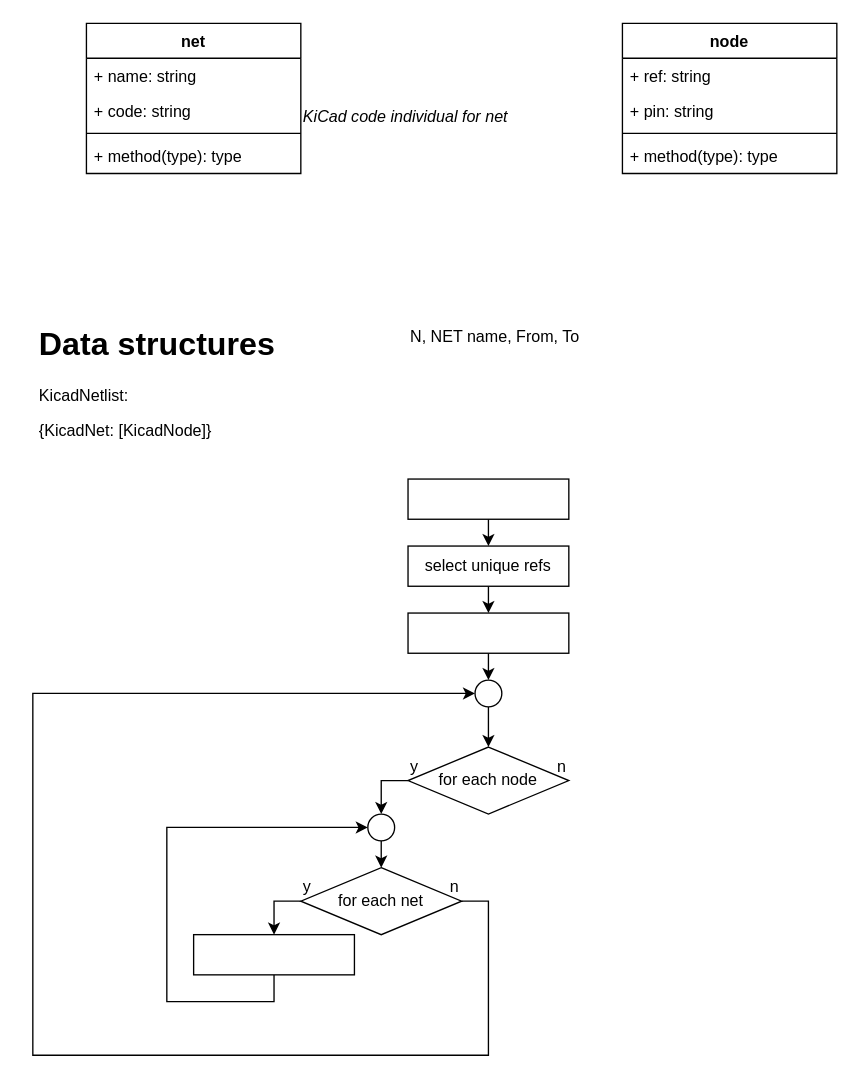
Some shapes in this 860 by 1089 pixel diagram are drawn without their labels. Here are the shapes that lost their labels. From the top down, the centre of each, then its label:
At (x=488, y=498): "select nets with more than one node".
At (x=488, y=632): "sort refs".
At (x=273, y=954): "add to the list all pairs".
